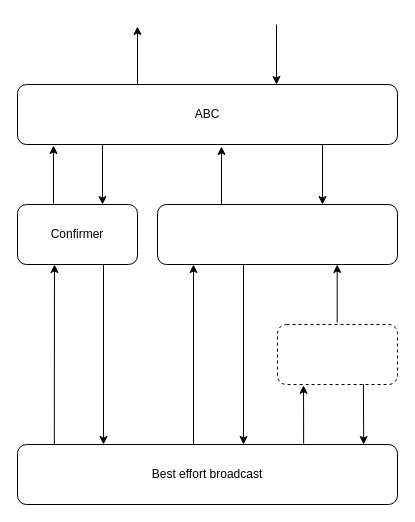
Some shapes in this 415 by 522 pixel diagram are drawn without their labels. Each missing label, with the centre of its shape:
"Consensus" goes at point 277,234.
"Failure detector" goes at point 337,354.
